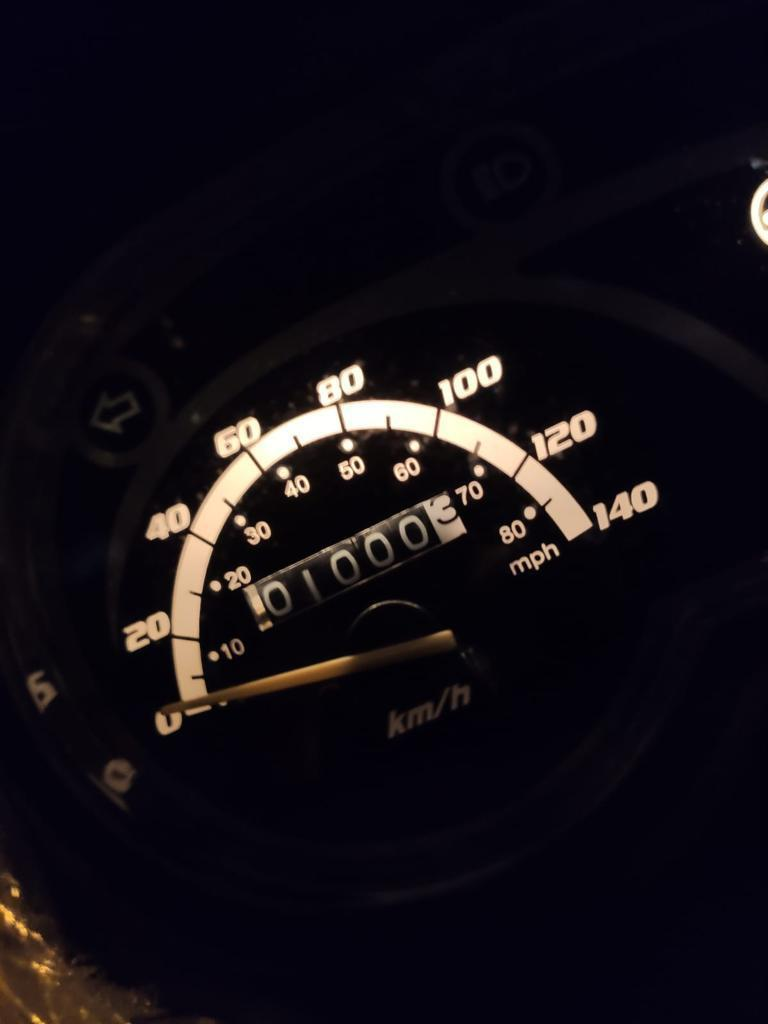0: (328, 547, 360, 586), (397, 514, 429, 551), (362, 531, 394, 567), (262, 580, 293, 617), (256, 520, 271, 540), (236, 565, 251, 584)
1: (301, 567, 324, 605)
3: (429, 491, 459, 525), (244, 525, 259, 545)
7: (452, 485, 469, 505)
odometer: (241, 488, 470, 634)
